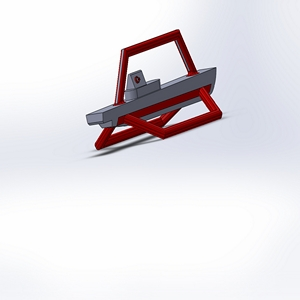submarine: (81, 23, 242, 172)
